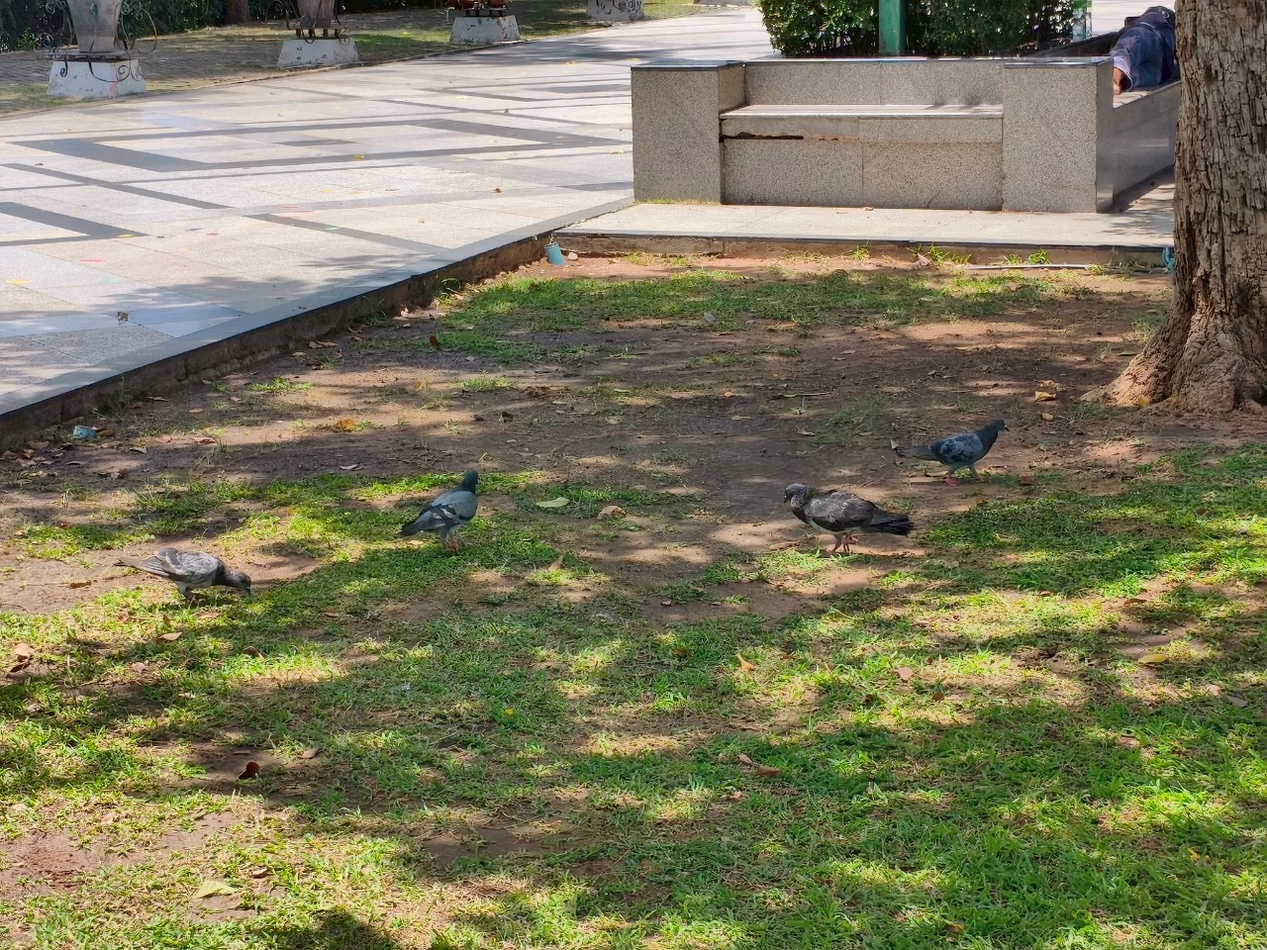Pigeon: (784, 483, 913, 551), (893, 419, 1006, 481), (122, 547, 250, 600), (401, 469, 478, 550)
